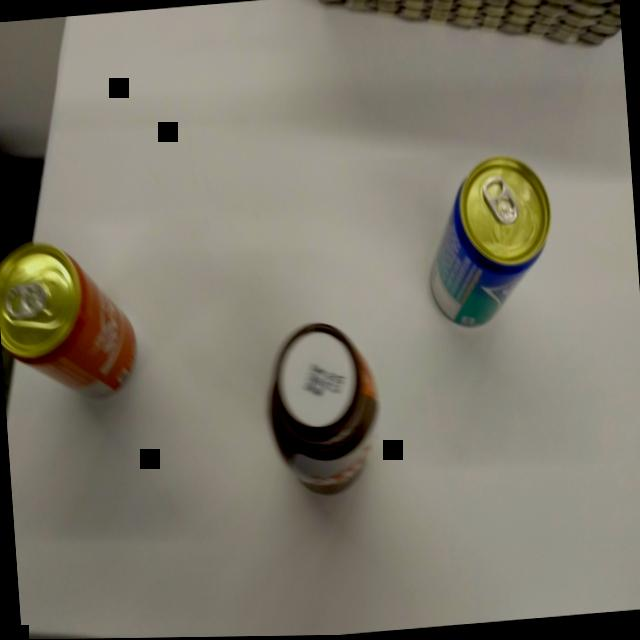chocolate_drink: (253, 311, 393, 509)
coke: (0, 226, 144, 412)
sprite: (415, 147, 563, 339)
